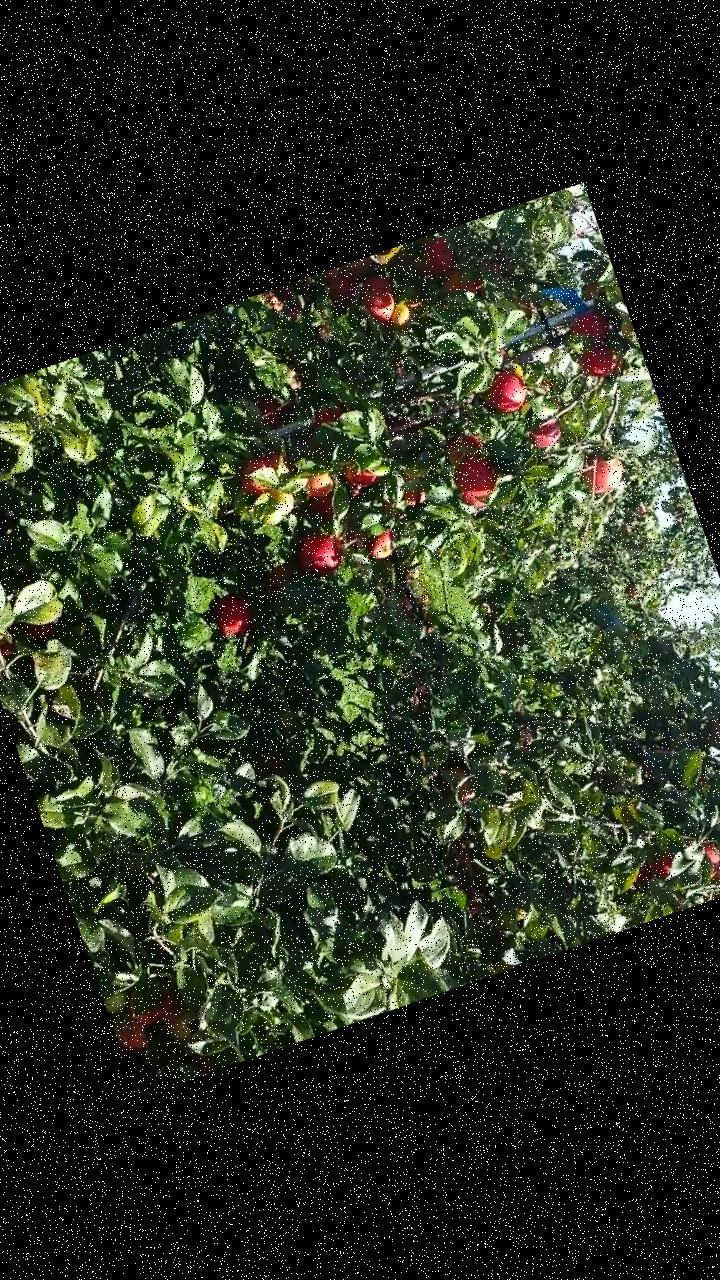Apple: (116, 964, 196, 1032), (472, 358, 535, 422), (159, 994, 225, 1052), (291, 524, 354, 584), (203, 585, 262, 646), (571, 442, 630, 501), (446, 442, 503, 502), (431, 252, 492, 308), (414, 230, 468, 288), (564, 295, 620, 349), (574, 331, 634, 381), (230, 450, 282, 504), (641, 839, 695, 890), (432, 762, 482, 816), (293, 454, 342, 504), (256, 555, 306, 603), (352, 286, 402, 333), (524, 409, 572, 456), (299, 484, 346, 529), (356, 518, 403, 562), (338, 451, 386, 494), (109, 1007, 151, 1056), (306, 394, 354, 436), (441, 428, 488, 468), (252, 388, 294, 432), (325, 270, 366, 315), (12, 610, 61, 646), (380, 298, 420, 338), (390, 474, 430, 514), (356, 266, 397, 298), (695, 833, 719, 886), (340, 254, 381, 285), (266, 446, 298, 484), (0, 630, 25, 675), (459, 488, 495, 514), (316, 266, 348, 294), (102, 988, 132, 1016), (578, 275, 604, 302), (276, 488, 298, 515), (617, 317, 636, 344), (408, 293, 430, 312)
